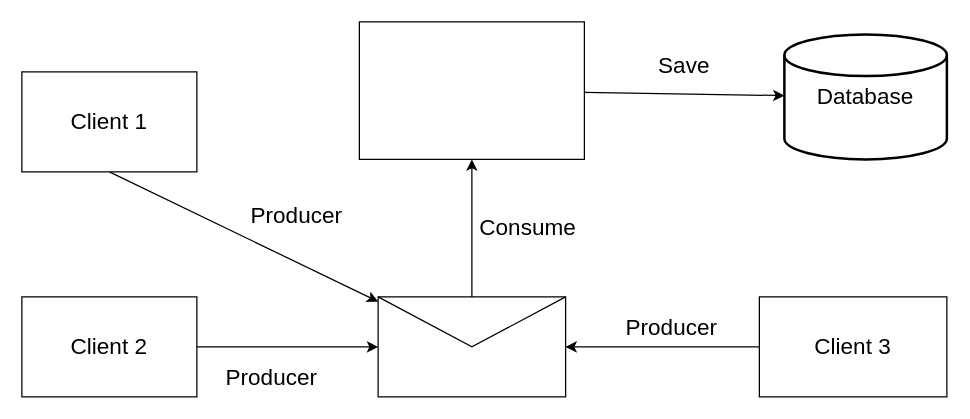
The diagram is 970 pixels wide and 419 high, and some of its shapes have lost their labels. Here are the shapes that lost their labels. From the top down, the box of each, then its label:
(358, 21, 584, 159): Center
(377, 296, 566, 397): Queue
